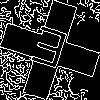E: (25, 25, 71, 78)
